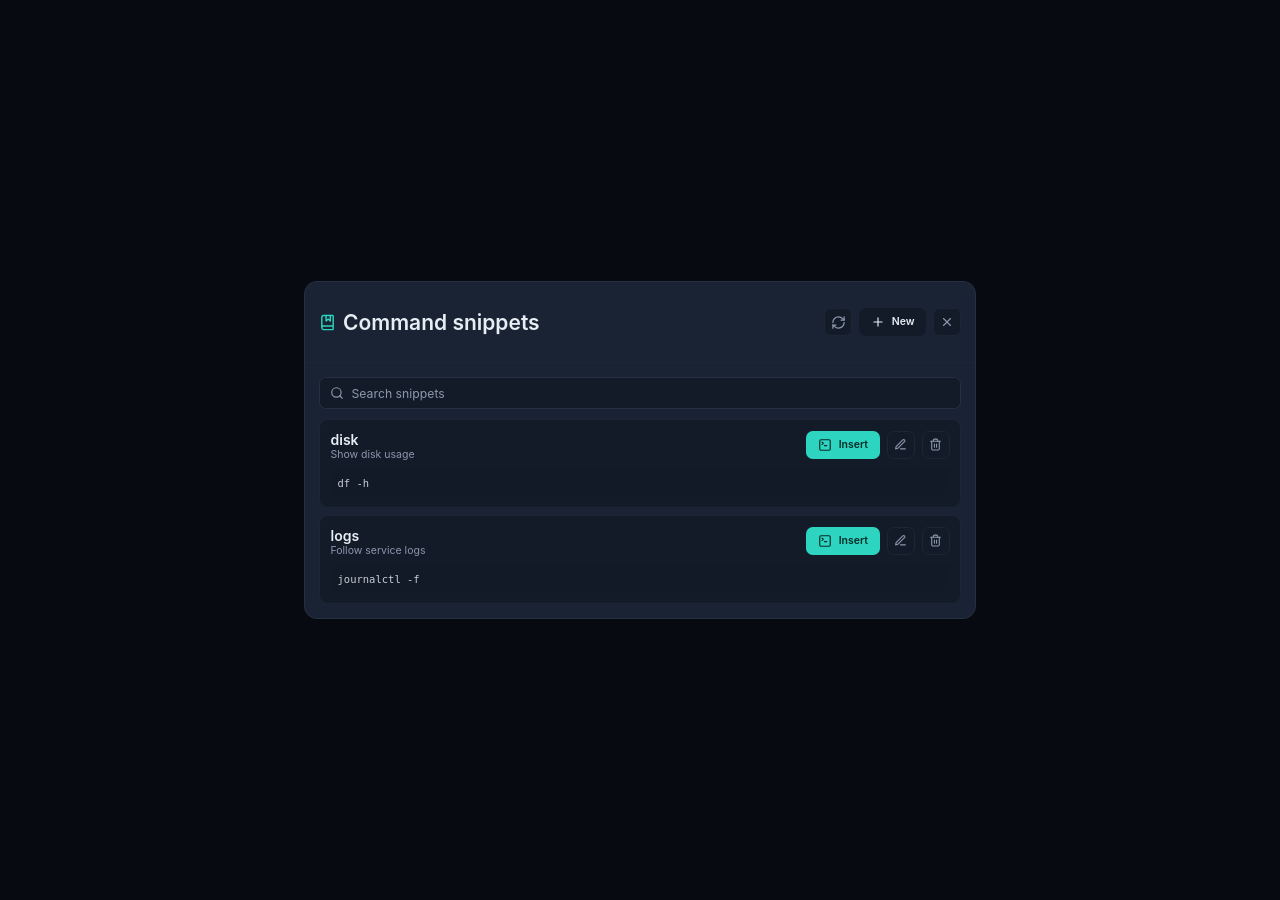
Test: SnippetsDialog › loads and searches snippets by description and command
Check: the text "disk" is shown, box [330,431,359,448]
Type "journalctl" into the field labelled "Search snippets" at (640, 393), box [319,377,961,409]
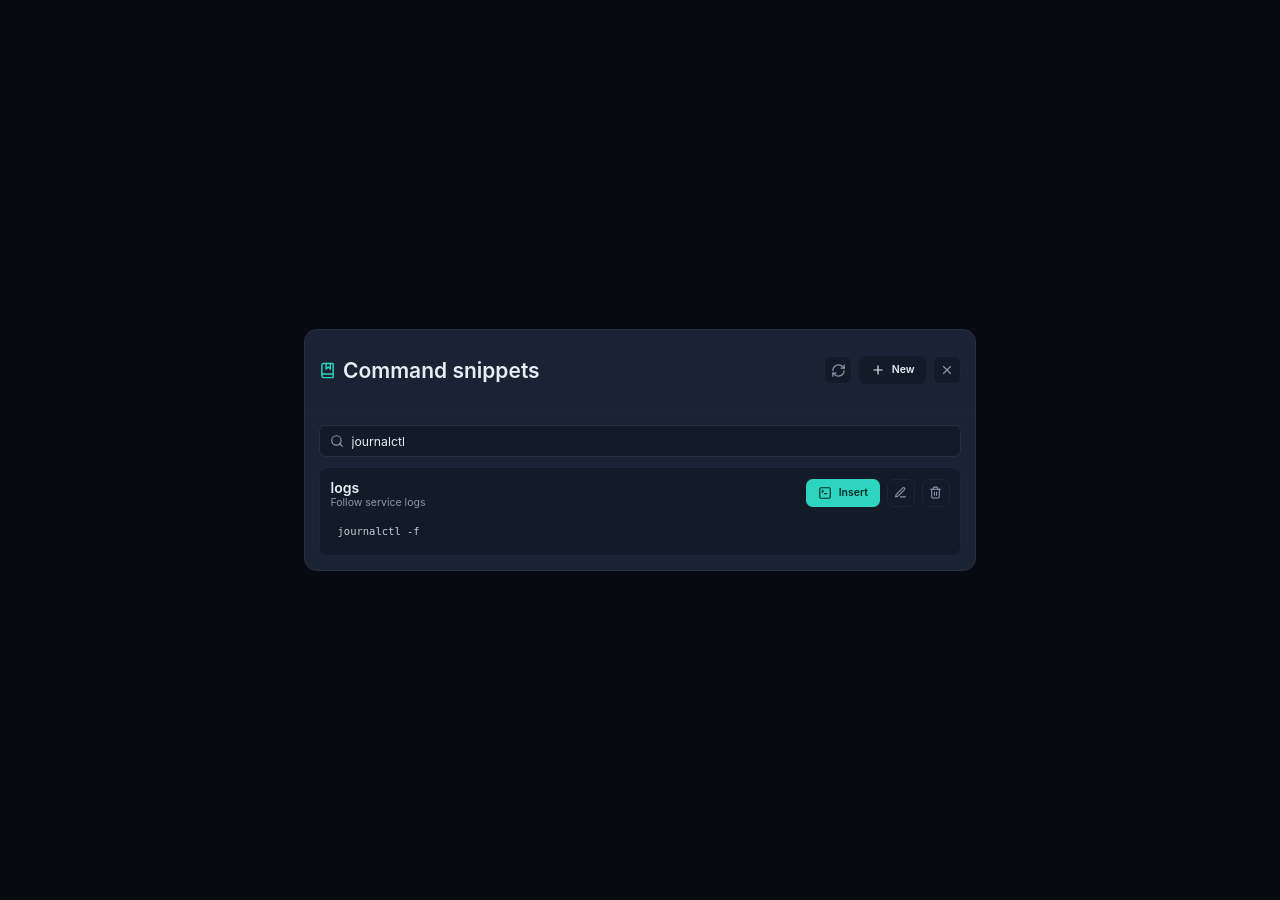
Check: the text "logs" is shown, box [330,479,359,496]
Check: the text "disk" is gone
